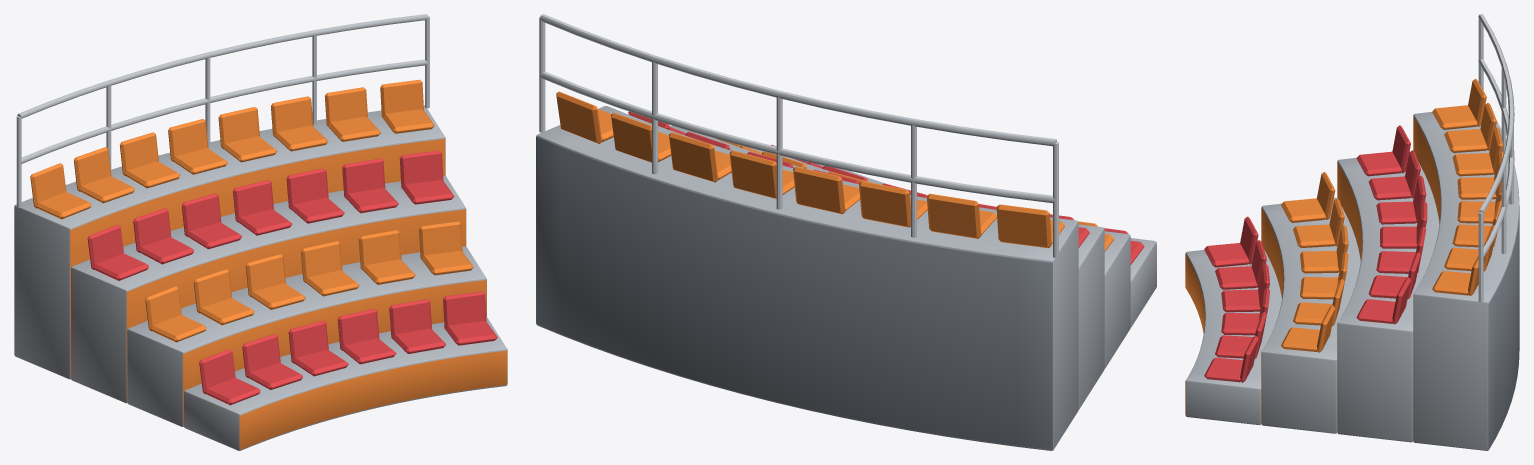
The model's file is arquibancada_curva.glb.
3 views of the same model, side by side, from view 1: azimuth 30°, elevation 25°; view 2: azimuth 150°, elevation 25°; view 3: azimuth 270°, elevation 25° (orthographic). The views are drawn at different scales.
Parts seen in each view (by area): view 1: arquibancada_curva; view 2: arquibancada_curva; view 3: arquibancada_curva.
Boxes of the visible parts, bbox=[...] form: arquibancada_curva: bbox=[14, 14, 507, 450]; arquibancada_curva: bbox=[536, 14, 1156, 450]; arquibancada_curva: bbox=[1185, 14, 1519, 450].
Bounding box in the file's own units: 4.77 × 2.71 × 3.4.
Materials: 1 (1 with a texture image).
